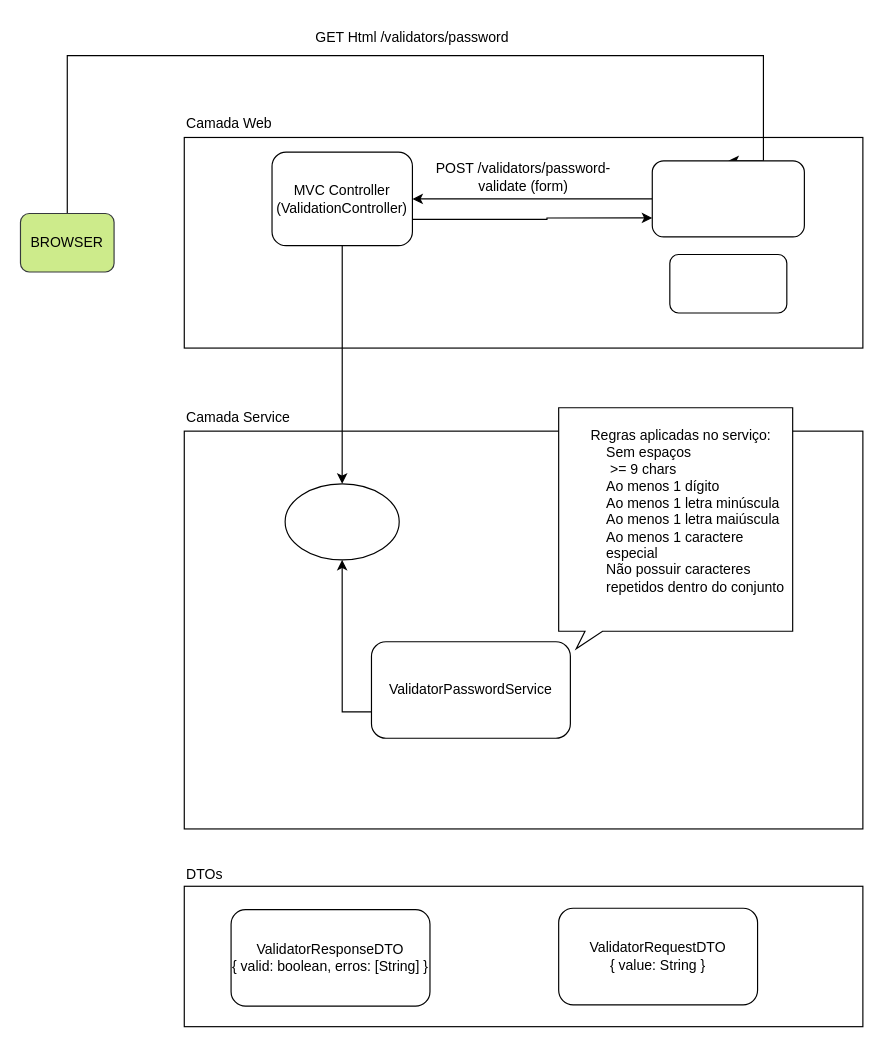
Some shapes in this 883 by 1047 pixel diagram are drawn without their labels. The shapes that lost their labels are listed below. From the top down, each one's centre as x and y in pixels, then its label:
At (x=727, y=198): "ThymeleafPage (passwor-form.html)".
At (x=728, y=283): "style.css".
At (x=341, y=521): "Validator (interface)".
